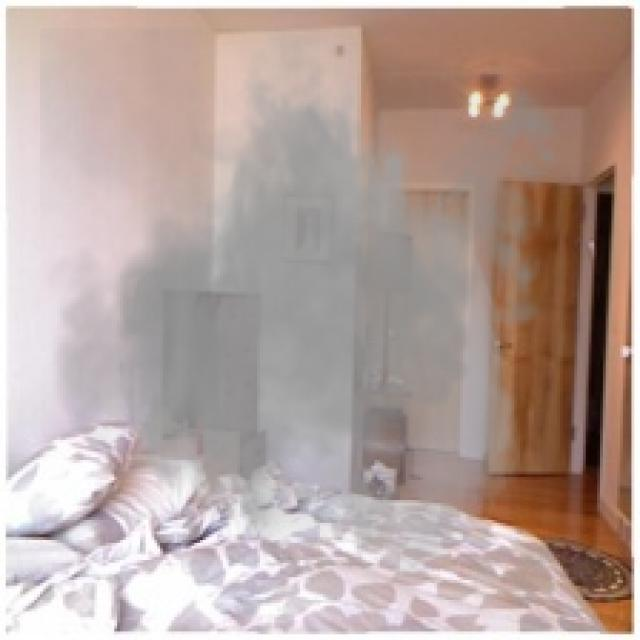smoke: (40, 28, 577, 583)
